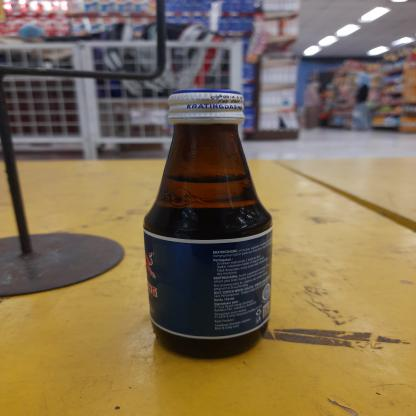keyboard: (129, 84, 283, 365)
